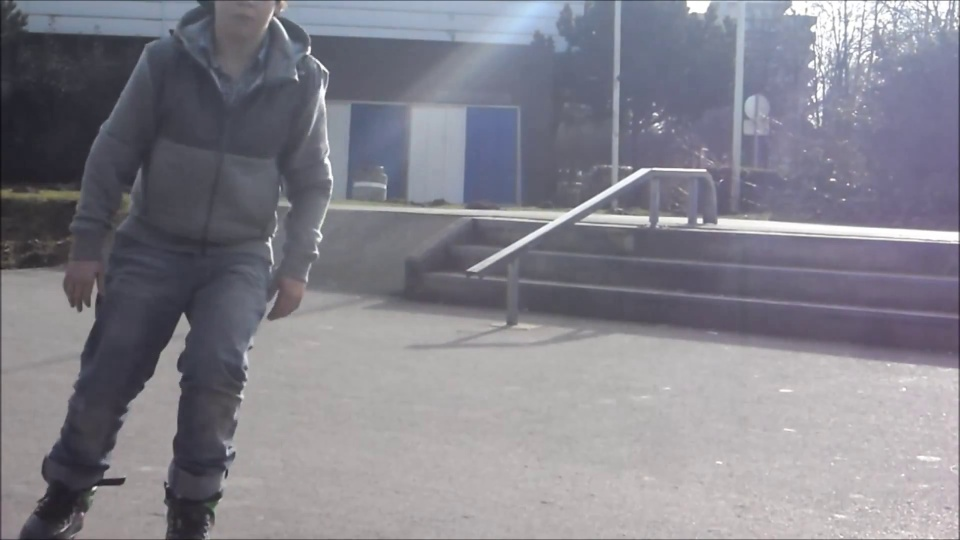person: (26, 3, 328, 538)
